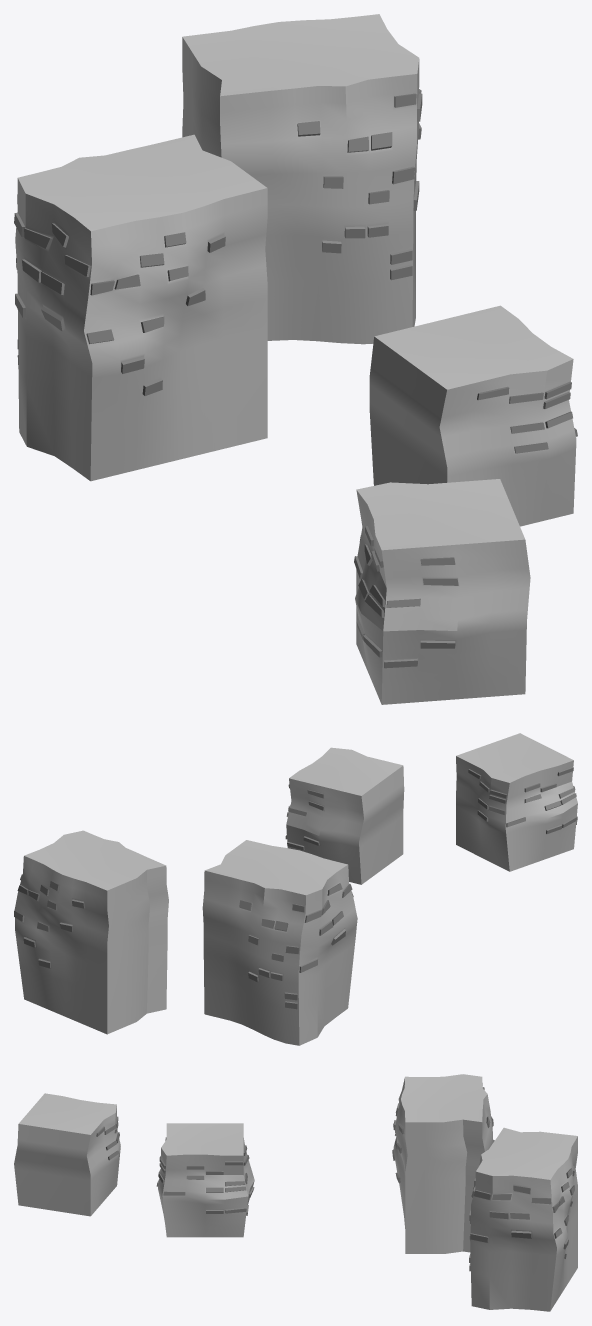
The model's file is tower_placment_posicions.glb.
3 views of the same model, one above another, from view 1: azimuth 30°, elevation 25°; view 2: azimuth 150°, elevation 25°; view 3: azimuth 270°, elevation 25° (orthographic). The views are drawn at different scales.
Parts seen in each view (by area): view 1: Cube.004; view 2: Cube.004; view 3: Cube.004.
Part boxes in pixels (x1,y1,x2,y2): Cube.004: (14, 14, 577, 704); Cube.004: (14, 733, 577, 1045); Cube.004: (14, 1074, 577, 1311).
Bounding box in the file's own units: 7.83 × 4.13 × 14.66.
1 material, 1 textured.
